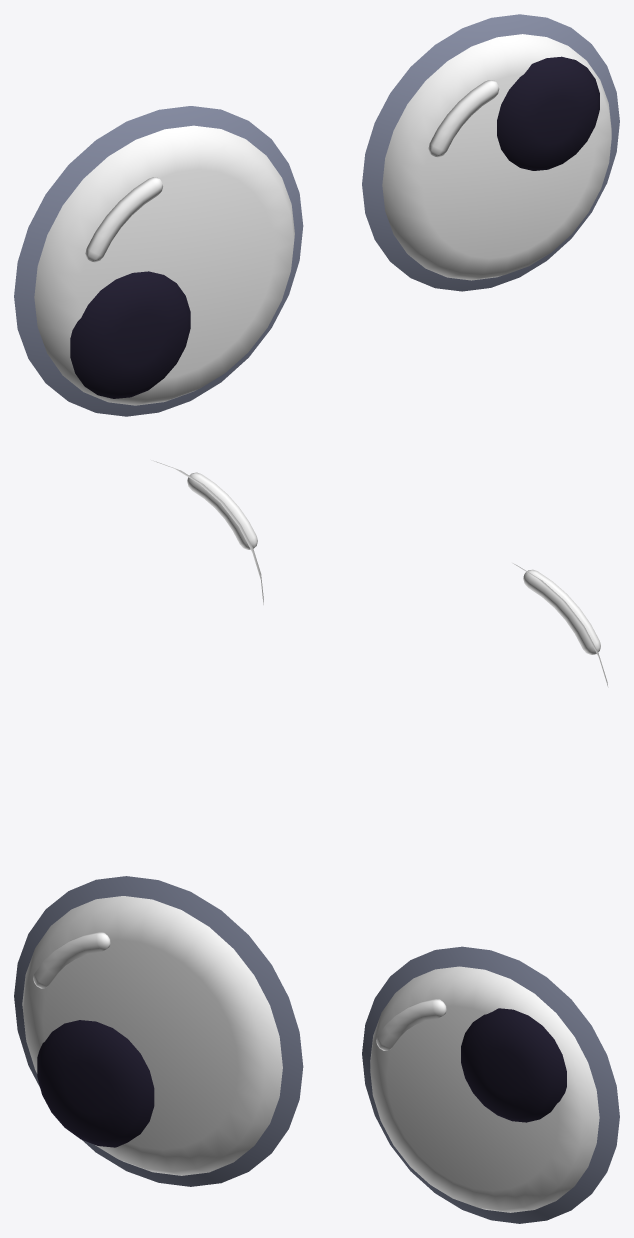
File: googly.glb
3 renders of one model, top to bottom at view 1: azimuth 30°, elevation 25°; view 2: azimuth 150°, elevation 25°; view 3: azimuth 330°, elevation 25°, orthographic.
Parts seen in each view (by area): view 1: googly; view 2: googly; view 3: googly.
Part boxes in pixels (<box>): googly: <box>14,14,619,416</box>; googly: <box>151,460,608,687</box>; googly: <box>14,876,619,1223</box>.
Bounding box in the file's own units: 0.465 × 0.23 × 0.0398.
